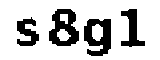1: (118, 9, 147, 49)
8: (47, 6, 81, 51)
g: (82, 17, 117, 60)
s: (13, 17, 40, 49)
